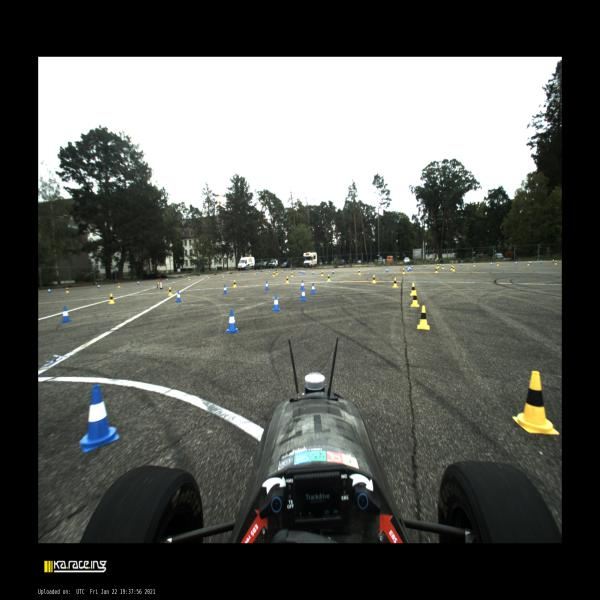blue_cone: (79, 386, 120, 453), (226, 310, 239, 333), (61, 306, 71, 323), (272, 295, 281, 311), (300, 288, 307, 301), (176, 291, 182, 302), (222, 284, 228, 294), (310, 283, 316, 293), (300, 280, 305, 289), (265, 281, 269, 290), (386, 268, 389, 272), (48, 288, 50, 293), (358, 268, 360, 273), (490, 262, 493, 265), (137, 280, 139, 284), (166, 278, 168, 282), (312, 270, 314, 274), (332, 270, 334, 274), (410, 266, 412, 270), (98, 285, 100, 288), (300, 270, 302, 273), (411, 265, 413, 268), (460, 263, 462, 266), (540, 260, 542, 263), (552, 259, 554, 262), (206, 275, 208, 278), (294, 270, 296, 272), (302, 270, 303, 274), (304, 270, 305, 274), (408, 267, 409, 271), (423, 265, 425, 267), (516, 261, 517, 265), (530, 260, 531, 264), (257, 271, 258, 274), (240, 272, 241, 275), (269, 271, 270, 273), (282, 270, 283, 272), (299, 270, 300, 272), (406, 266, 407, 268), (221, 274, 222, 276), (440, 264, 441, 266)
yellow_cone: (512, 371, 560, 434), (417, 305, 430, 329), (410, 290, 419, 307), (410, 283, 417, 295), (108, 294, 115, 304), (392, 278, 399, 287), (168, 286, 173, 296), (232, 280, 237, 288), (372, 274, 376, 284), (285, 277, 289, 284), (327, 274, 331, 281), (66, 287, 69, 293), (358, 269, 361, 275), (403, 268, 406, 274), (435, 267, 438, 273), (118, 282, 120, 288), (453, 266, 455, 272), (321, 271, 323, 276), (291, 272, 293, 277), (158, 279, 160, 284), (555, 260, 557, 265), (273, 272, 275, 276), (442, 265, 444, 269), (497, 262, 499, 266), (528, 262, 530, 266), (272, 272, 274, 276), (222, 274, 224, 277), (266, 271, 268, 274), (451, 263, 453, 266), (189, 276, 190, 280), (238, 272, 239, 276), (437, 264, 438, 268), (451, 266, 452, 270), (474, 262, 475, 266), (438, 264, 439, 268), (208, 275, 209, 278), (277, 271, 278, 274), (254, 272, 255, 274), (276, 272, 277, 274)
